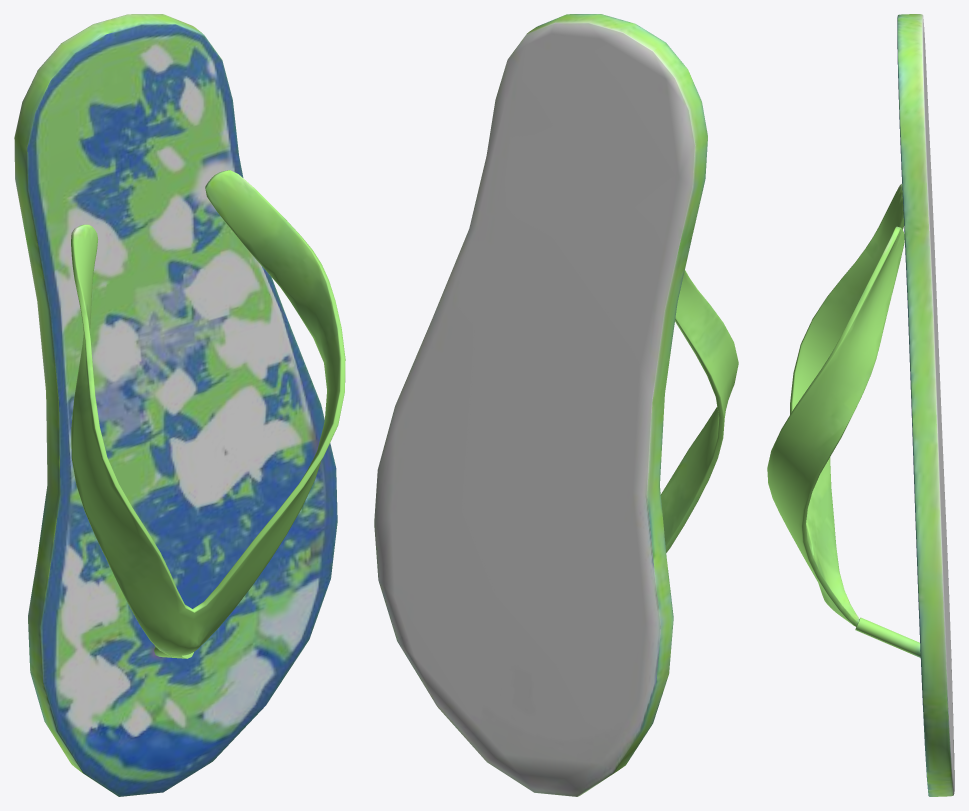
Rendered from slipper.glb.
3 renders of one model, left to right at view 1: azimuth 30°, elevation 25°; view 2: azimuth 150°, elevation 25°; view 3: azimuth 270°, elevation 25°, orthographic. The views are drawn at different scales.
Parts seen in each view (by area): view 1: w_slipper; view 2: w_slipper; view 3: w_slipper.
Part boxes in pixels (box(x1,y1,x2,y2)): w_slipper: box(14, 14, 345, 796); w_slipper: box(374, 14, 738, 796); w_slipper: box(767, 14, 954, 796).
Size of the model in its own units: 0.0666 by 0.1566 by 0.0358.
1 material, 1 textured.
